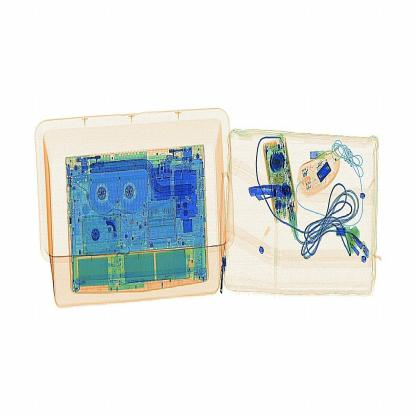knife: (241, 179, 291, 213)
